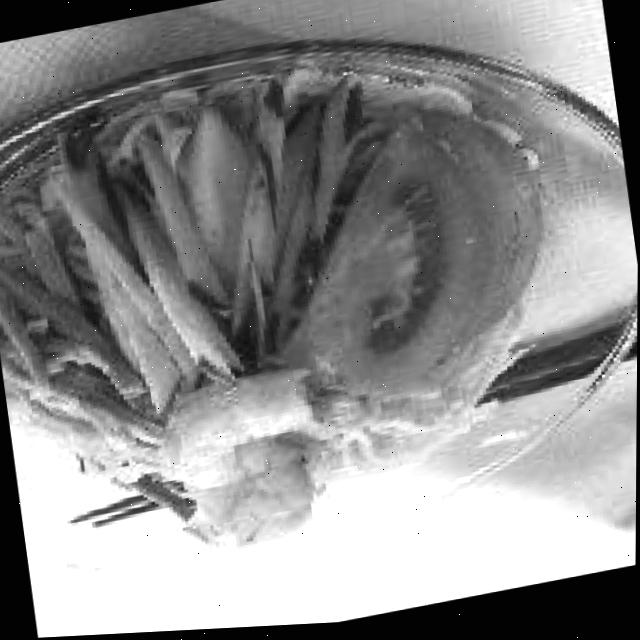面条主食: (0, 0, 640, 621)
